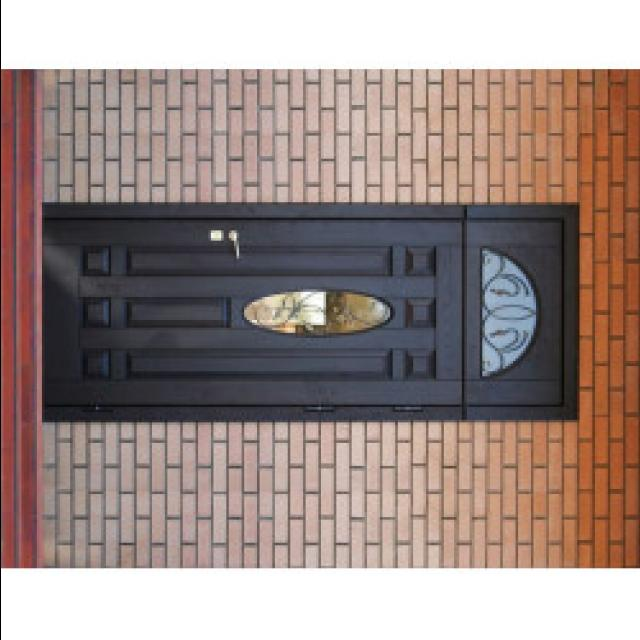close: (41, 218, 466, 414)
